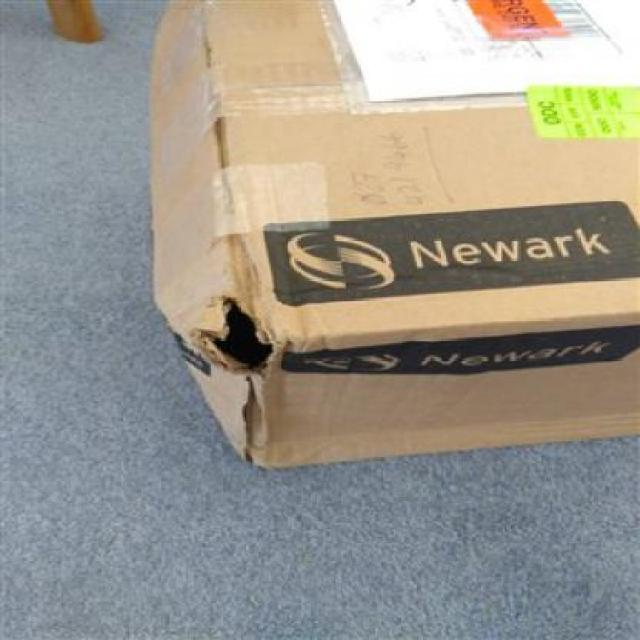box: (146, 0, 640, 473)
opened: (182, 280, 277, 469)
